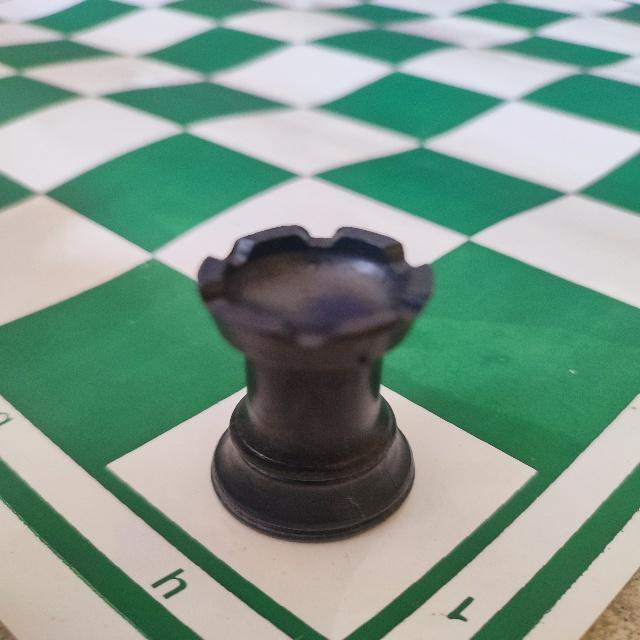Rook: (194, 222, 435, 542)
